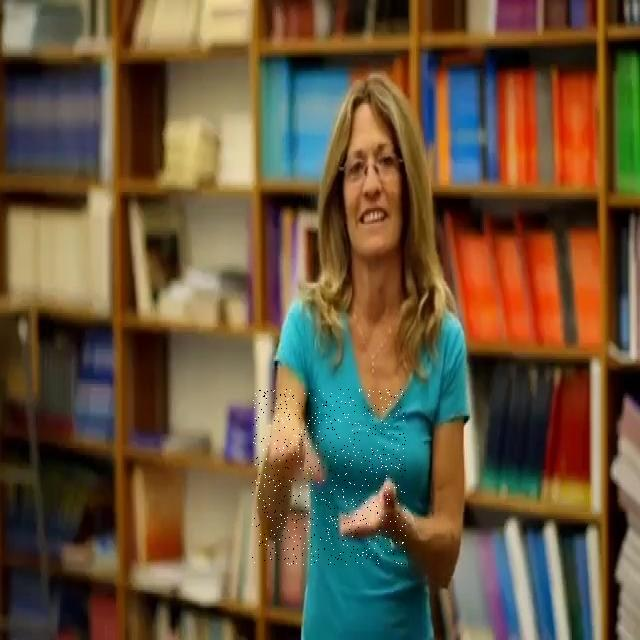sauce: (252, 390, 406, 566)
